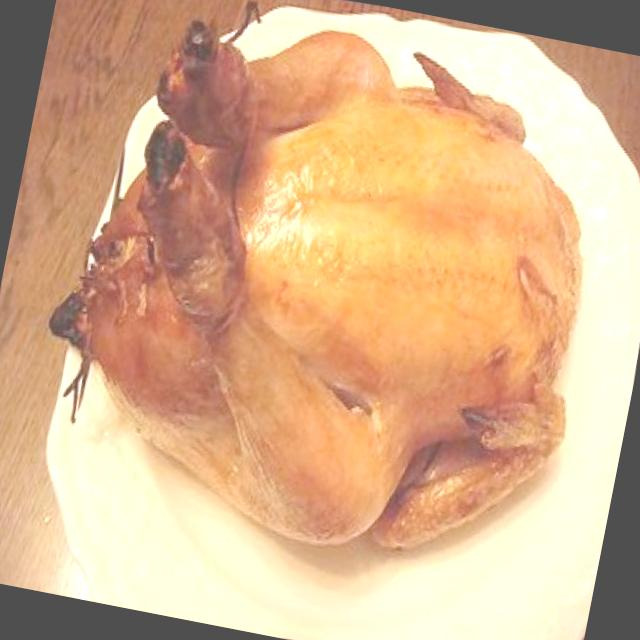Chicken: (9, 0, 640, 615)
